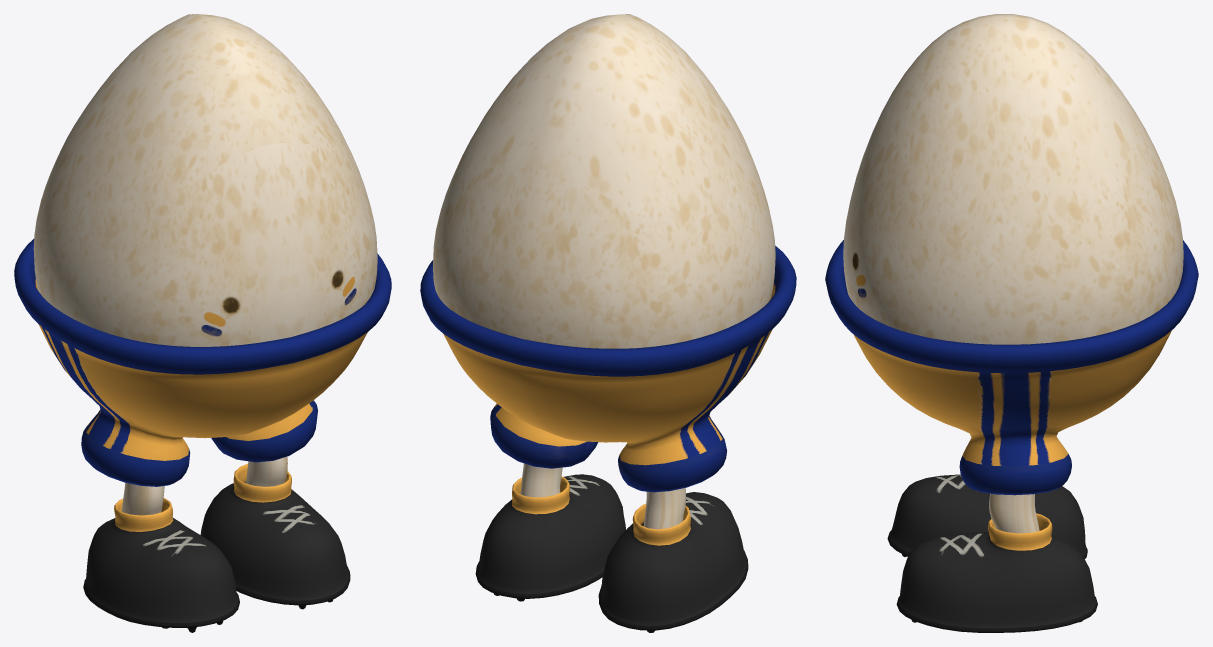
The model's file is huevito.glb.
3 views of the same model, side by side, from view 1: azimuth 30°, elevation 25°; view 2: azimuth 150°, elevation 25°; view 3: azimuth 270°, elevation 25° (orthographic).
Visible parts, largest first — view 1: huevo_tigre, shortcitos_tigre, papos_tigre.R, papos_tigre.L; view 2: huevo_tigre, shortcitos_tigre, papos_tigre.R, papos_tigre.L; view 3: huevo_tigre, shortcitos_tigre, papos_tigre.L, papos_tigre.R.
Boxes of the visible parts, x1=… form: huevo_tigre: x1=33, y1=14, x2=377, y2=515; shortcitos_tigre: x1=14, y1=239, x2=391, y2=486; papos_tigre.R: x1=83, y1=498, x2=239, y2=632; papos_tigre.L: x1=200, y1=463, x2=350, y2=609; huevo_tigre: x1=433, y1=14, x2=775, y2=529; shortcitos_tigre: x1=420, y1=246, x2=796, y2=492; papos_tigre.R: x1=598, y1=492, x2=748, y2=632; papos_tigre.L: x1=475, y1=474, x2=625, y2=601; huevo_tigre: x1=843, y1=14, x2=1183, y2=533; shortcitos_tigre: x1=825, y1=240, x2=1198, y2=495; papos_tigre.L: x1=896, y1=513, x2=1097, y2=632; papos_tigre.R: x1=887, y1=474, x2=1087, y2=558.
Bounding box in the file's own units: 2.44 × 4.15 × 2.45.
5 materials, 3 textured.
